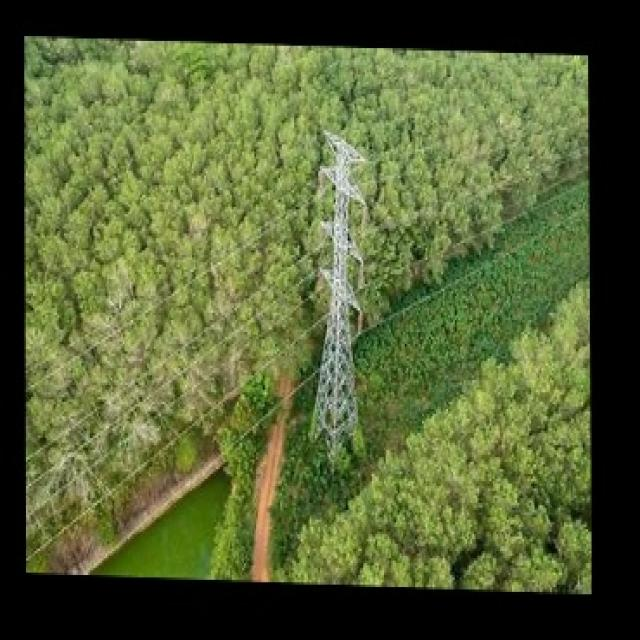utility poles: (308, 100, 380, 478)
